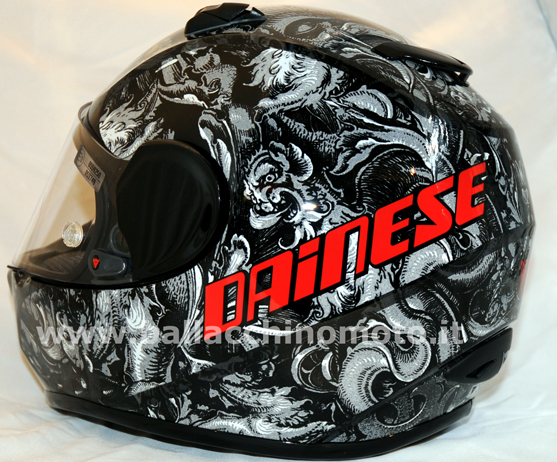helmet: (25, 7, 540, 455)
